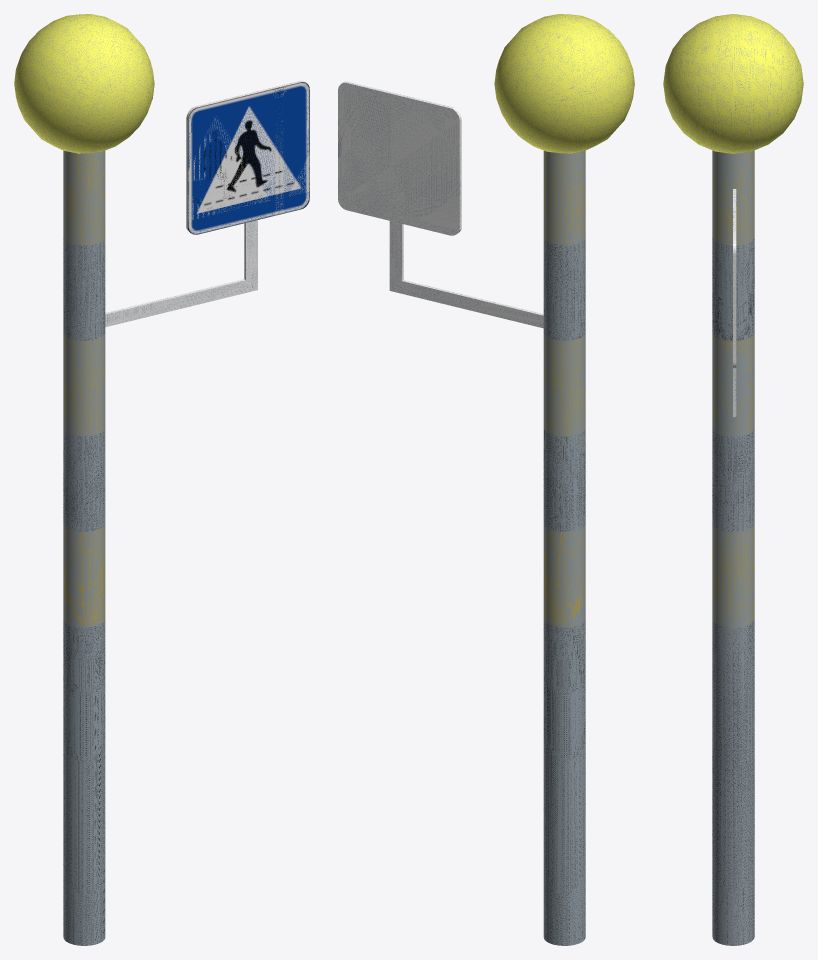
File: zebra_crossing_light.fbx
3 views of the same model, side by side, from view 1: azimuth 30°, elevation 25°; view 2: azimuth 150°, elevation 25°; view 3: azimuth 270°, elevation 25° (orthographic).
Visible parts, largest first — view 1: Model, Group1; view 2: Model, Group1; view 3: Model, Group1.
Boxes of the visible parts, x1,y1,x2,y2 form: Model: (63, 80, 309, 945); Group1: (14, 14, 154, 153); Model: (338, 81, 585, 945); Group1: (494, 14, 634, 153); Model: (712, 150, 754, 945); Group1: (663, 14, 803, 153).
Size of the model in its own units: 0.94 by 2.88 by 0.4.
